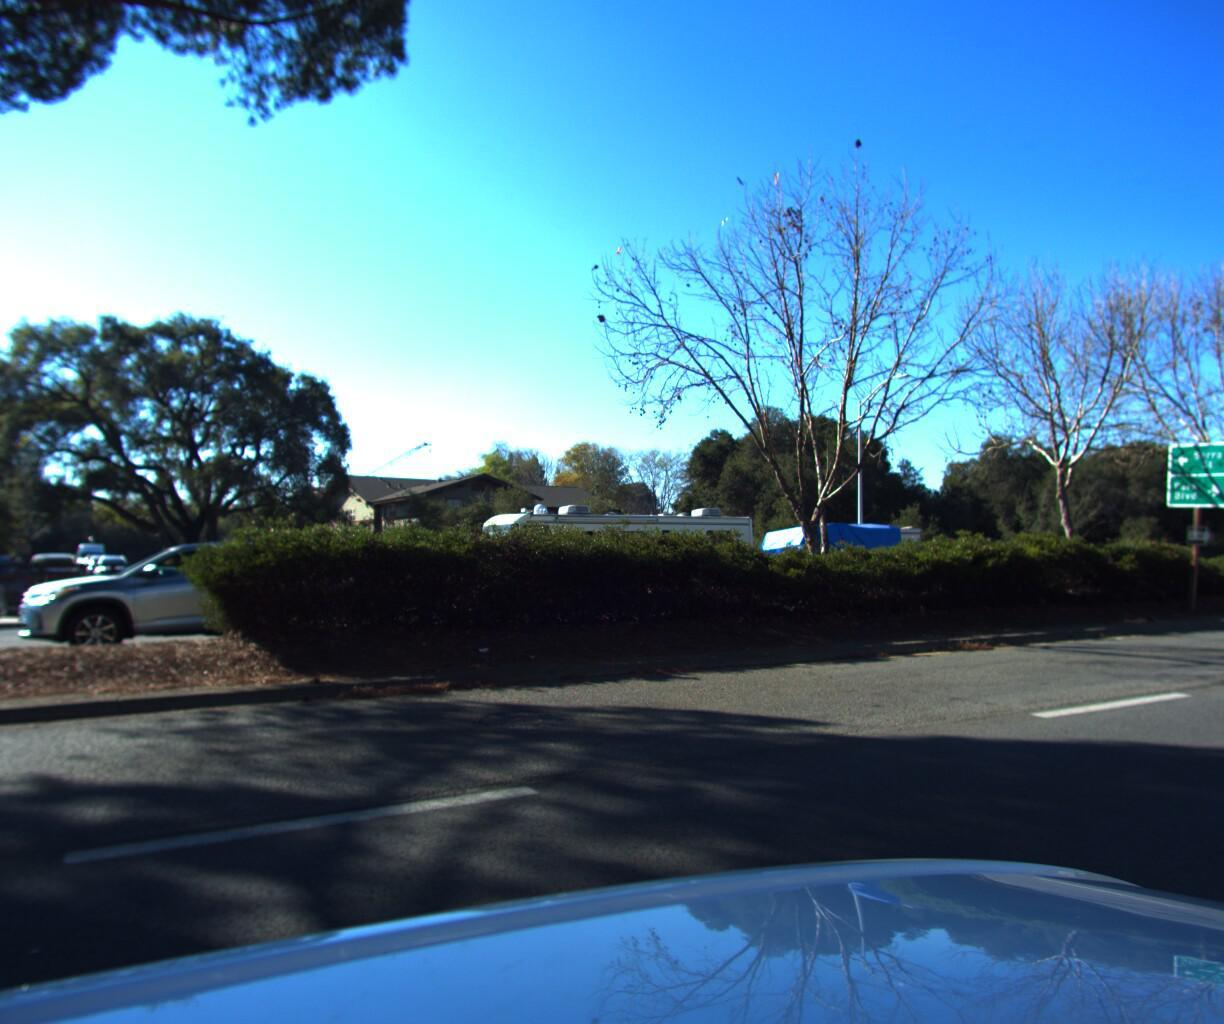car: (2, 542, 346, 650), (0, 560, 14, 638)
other_vehicle: (453, 480, 767, 608), (750, 518, 932, 609)
